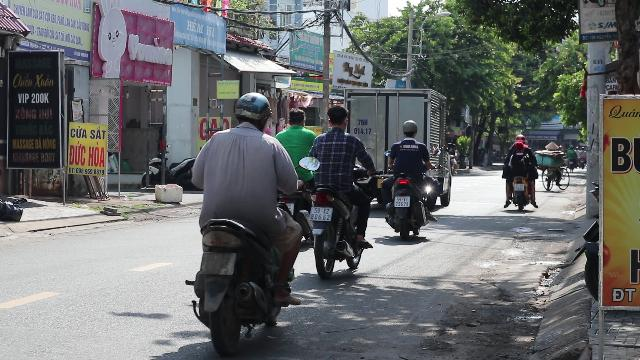helmet: (231, 90, 271, 130), (400, 119, 418, 137)
licenseplate: (202, 253, 234, 273), (310, 207, 332, 221), (394, 197, 410, 207)
motorcyclist: (184, 90, 306, 354), (306, 100, 376, 276), (380, 119, 438, 239)
nohelmet: (324, 105, 350, 130), (286, 107, 306, 127)
